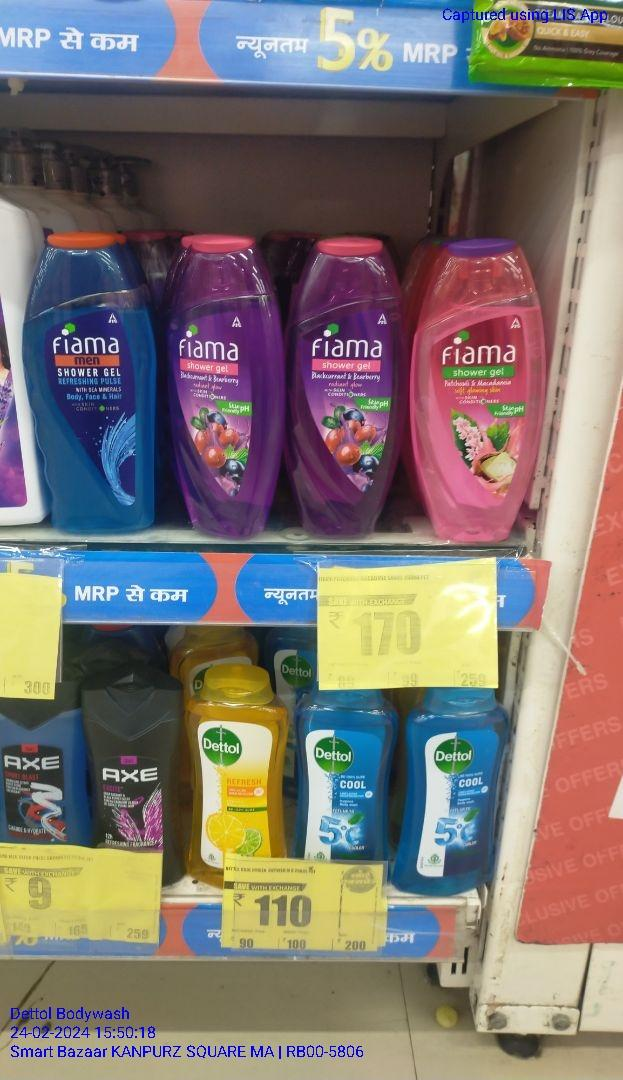Dettol_Bodywash_Cool: (400, 686, 502, 896), (302, 688, 393, 857)
Dettol_Bodywash_Refresh: (185, 679, 284, 897)
Fiama_Shower_Gel_Patchouli_and_Macadamia_250ML: (418, 244, 546, 544)
